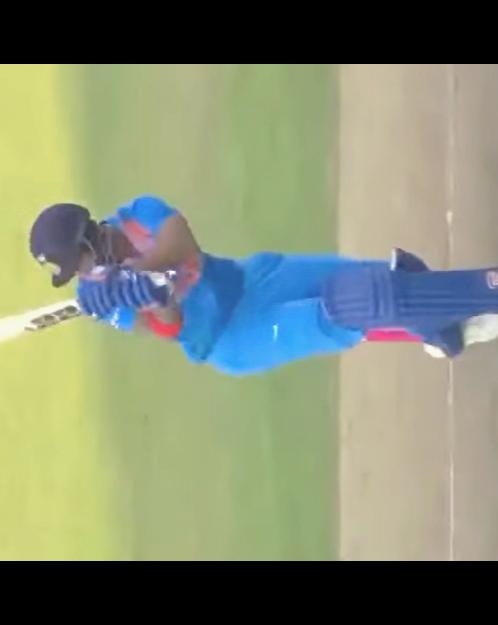batsman: (0, 161, 498, 434)
